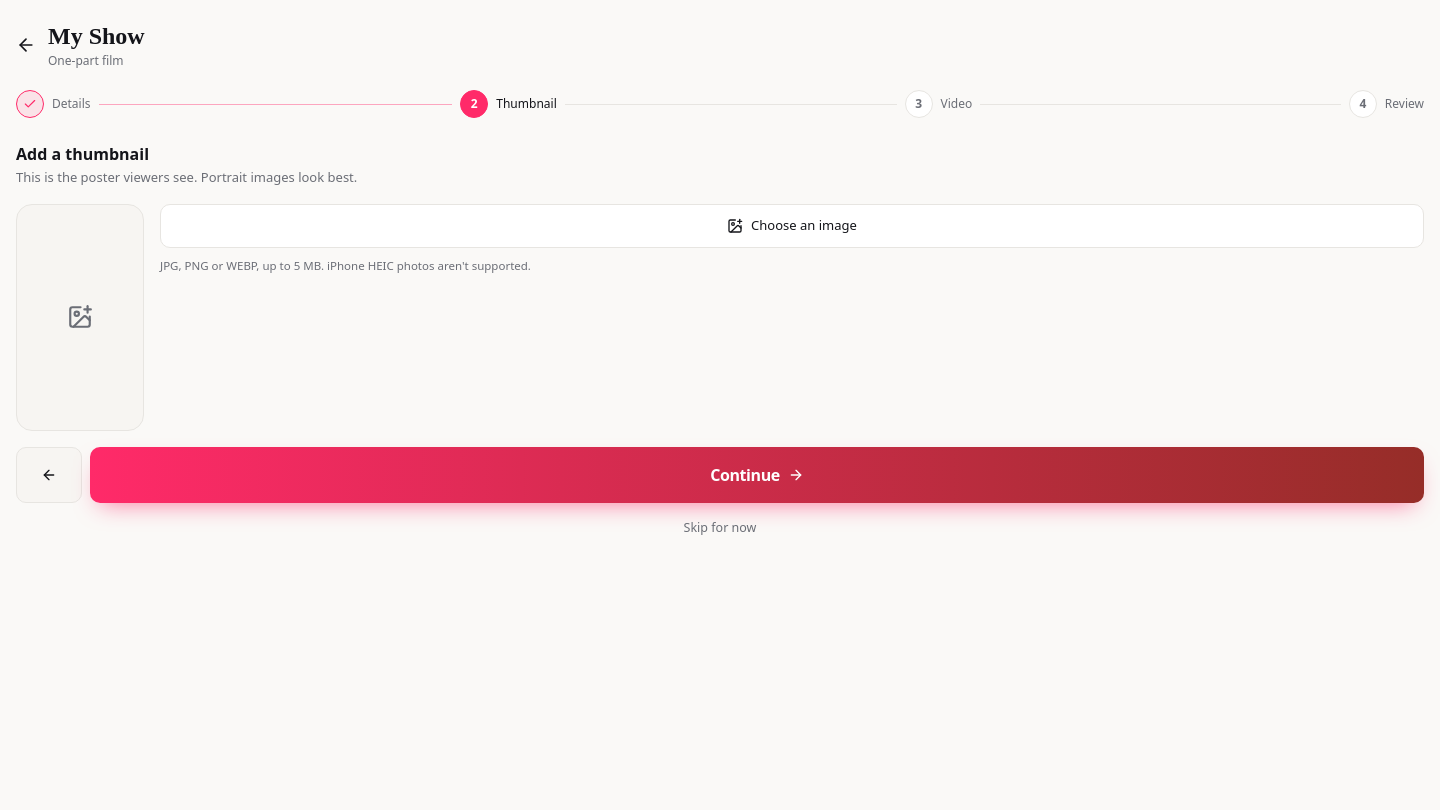
drafts persist and resume at the right step › Review blocks submission and points at what's missing
Expected: the heading "Add a thumbnail" is shown, [16, 143, 149, 165]
Click the button "4 Review": (1386, 104) [1349, 90, 1424, 118]
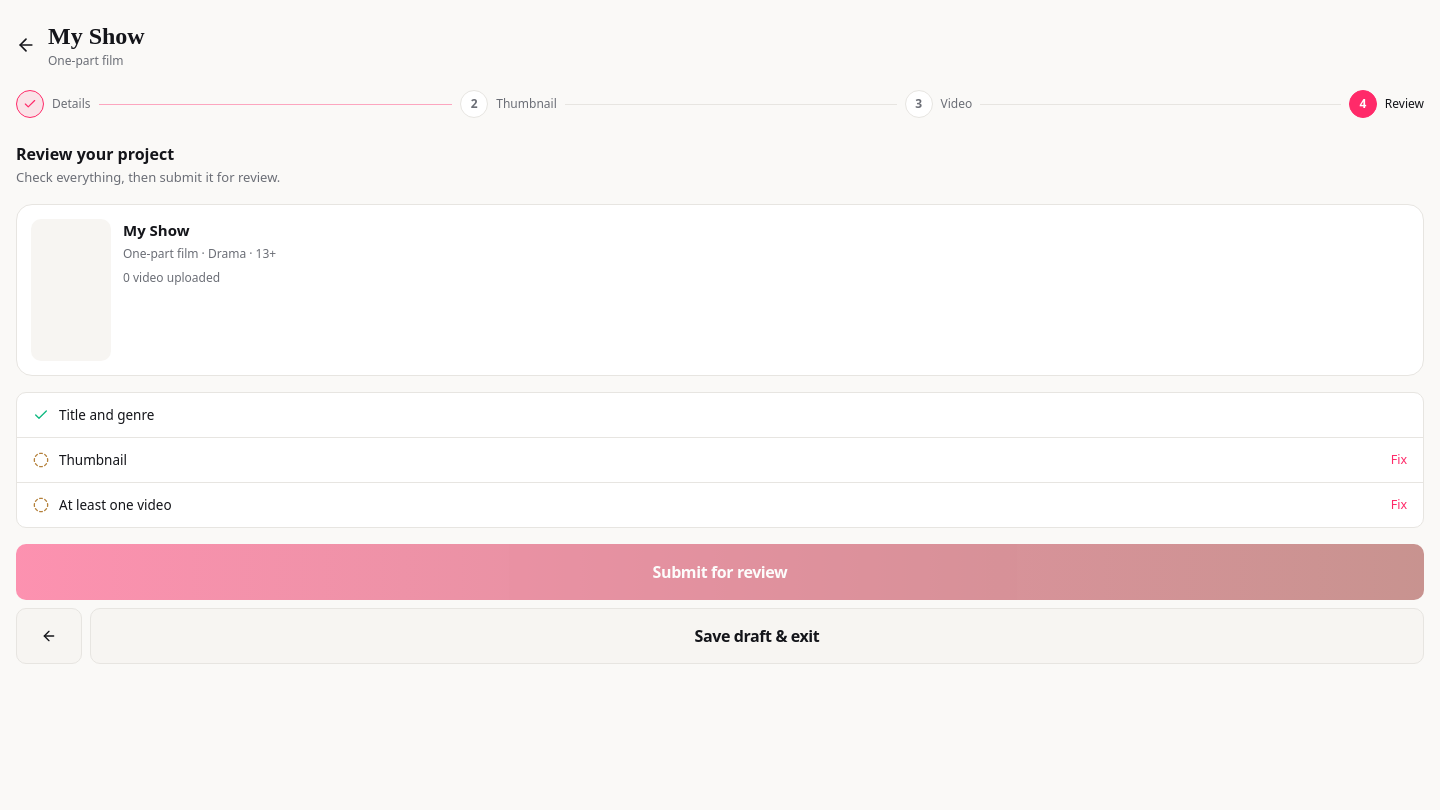
Expected: the heading "Review your project" is shown, [16, 143, 174, 165]
Expected: the button "Submit for review" is disabled, [16, 544, 1424, 600]
Expected: the number of buttons "Fix" is 2, [1391, 451, 1407, 470]; [1391, 496, 1407, 515]
